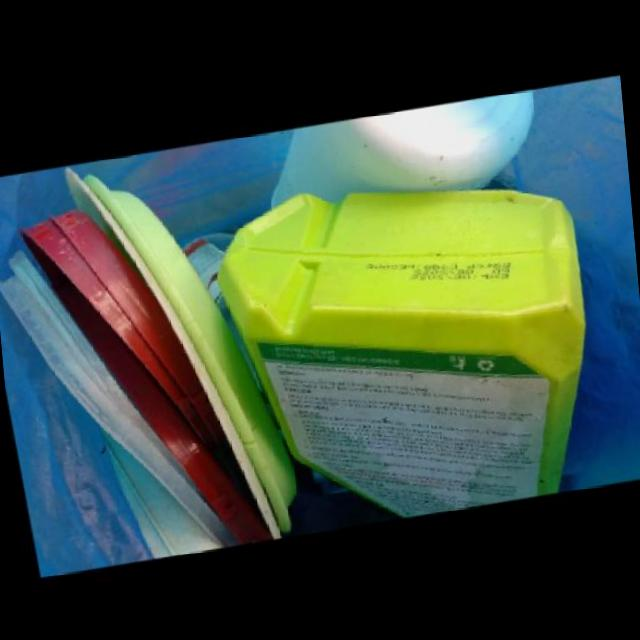chai_nhua: (273, 86, 535, 199)
hop_nhua: (217, 185, 585, 515), (19, 208, 275, 543), (84, 172, 300, 533), (0, 249, 240, 547)
